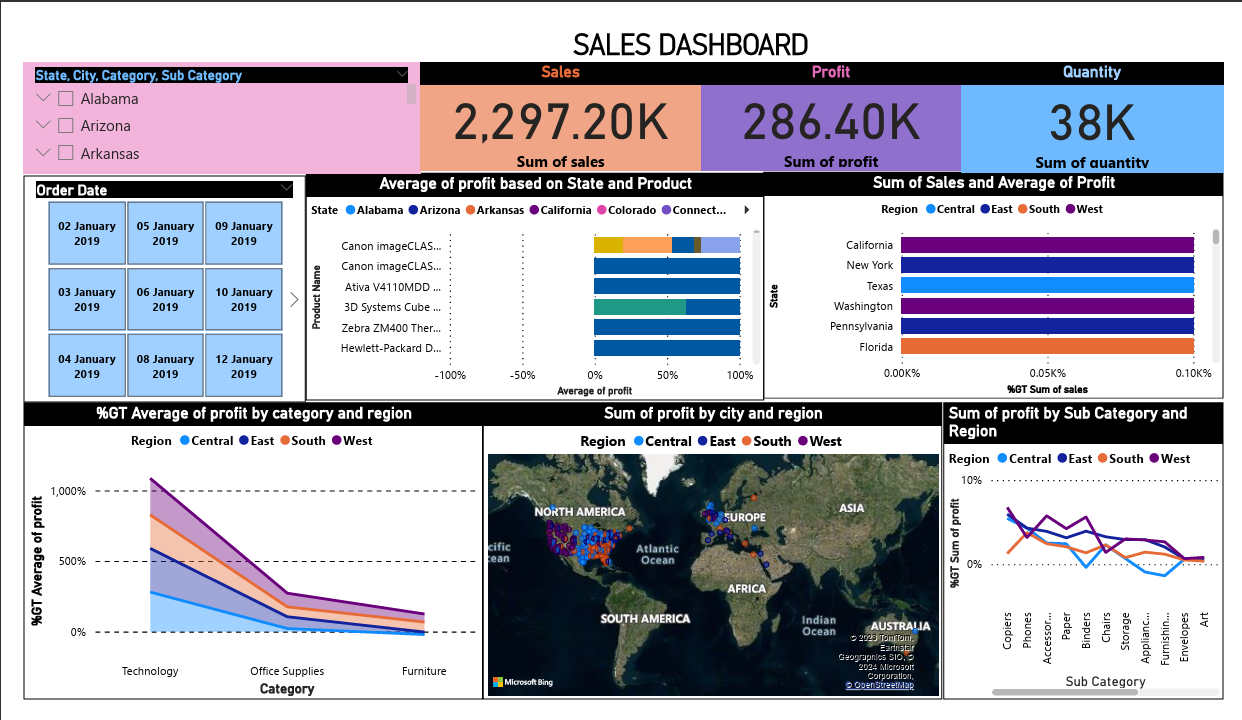

Layout of this report page (visuals, bound fields, positions):
{"tool":"powerbi","page":{"name":"Page 1","canvas":[1280,720],"ordinal":0},"visuals":[{"type":"hundredPercentStackedBarChart","title":"Sum of Sales and Average of Profit","fields":{"Category":["orders.state"],"Y":["Sum(orders.sales)"],"Series":["orders.region"]},"box":[788.7,156.8,490.9,242.4],"z":0},{"type":"hundredPercentStackedBarChart","title":"Average of profit based on State and Product","fields":{"Category":["orders.product_name"],"Y":["Avg(orders.profit)"],"Series":["orders.state"]},"box":[300.5,157.8,489.9,242.9],"z":1},{"type":"slicer","fields":{"Values":["orders.order_date"]},"box":[0,160.5,300.5,242.9],"z":2},{"type":"slicer","fields":{"Values":["orders.state","orders.city","orders.category","orders.sub_category"]},"box":[0,41.2,422.6,118],"z":3},{"type":"card","title":"Sales","fields":{"Values":["Sum(orders.sales)"]},"box":[422.6,39.8,300.5,116.6],"z":4},{"type":"card","title":"Profit","fields":{"Values":["Sum(orders.profit)"]},"box":[723.2,39.8,277.2,116.6],"z":5},{"type":"card","title":"Quantity","fields":{"Values":["Sum(orders.quantity)"]},"box":[1000.3,39.8,279.9,118],"z":6},{"type":"stackedAreaChart","fields":{"Category":["orders.category"],"Y":["Sum(orders.profit)"],"Series":["orders.region"]},"box":[0,402.8,489.6,317.2],"z":7},{"type":"map","fields":{"Category":["orders.city"],"Series":["orders.region"]},"box":[490,403,490,317],"z":8},{"type":"lineChart","title":"Sum of profit by Sub Category and Region","fields":{"Category":["orders.sub_category"],"Y":["Sum(orders.profit)"],"Series":["orders.region"]},"box":[980.5,402.8,299.1,317.2],"z":9},{"type":"shape","box":[562,0,300.3,39.8],"z":10}]}

Visuals, with their boxes in screenshot pixels (x1, y1, x2, y2), scaled from the page's 1280x720 canvas onto the 1242x720 screenshot:
"Sum of Sales and Average of Profit" hundredPercentStackedBarChart: bbox=[765, 157, 1241, 399]
"Average of profit based on State and Product" hundredPercentStackedBarChart: bbox=[292, 158, 767, 401]
slicer - orders.order_date: bbox=[0, 160, 292, 403]
slicer - orders.state x orders.city: bbox=[0, 41, 410, 159]
"Sales" card: bbox=[410, 40, 702, 156]
"Profit" card: bbox=[702, 40, 971, 156]
"Quantity" card: bbox=[971, 40, 1241, 158]
stackedAreaChart - orders.category x Sum(orders.profit): bbox=[0, 403, 475, 719]
map - orders.city x orders.region: bbox=[475, 403, 951, 719]
"Sum of profit by Sub Category and Region" lineChart: bbox=[951, 403, 1241, 719]
shape: bbox=[545, 0, 837, 40]
